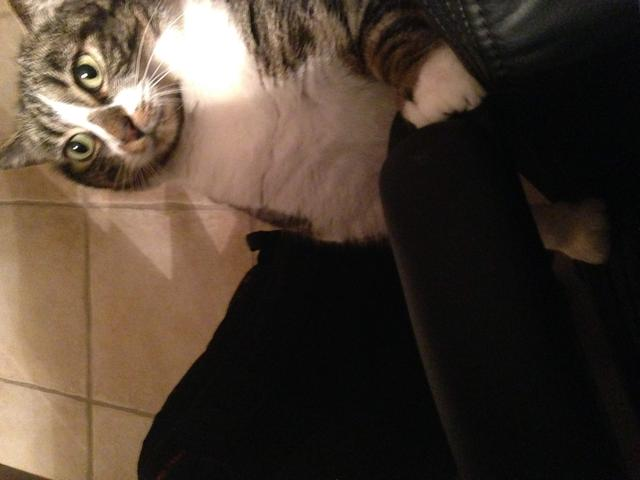playdoh: (1, 1, 485, 245)
